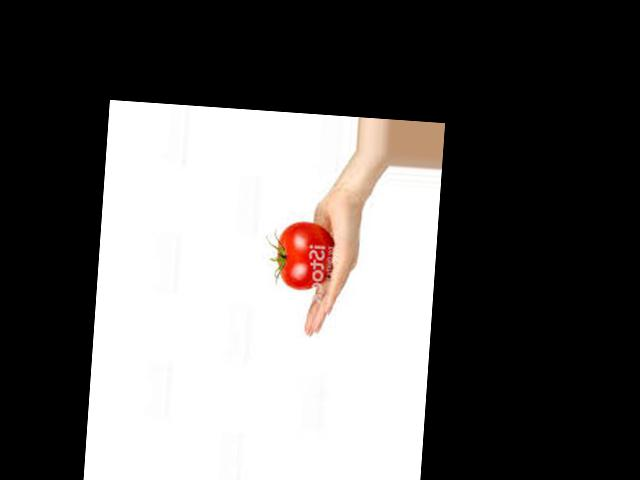tomato: (274, 220, 334, 290)
